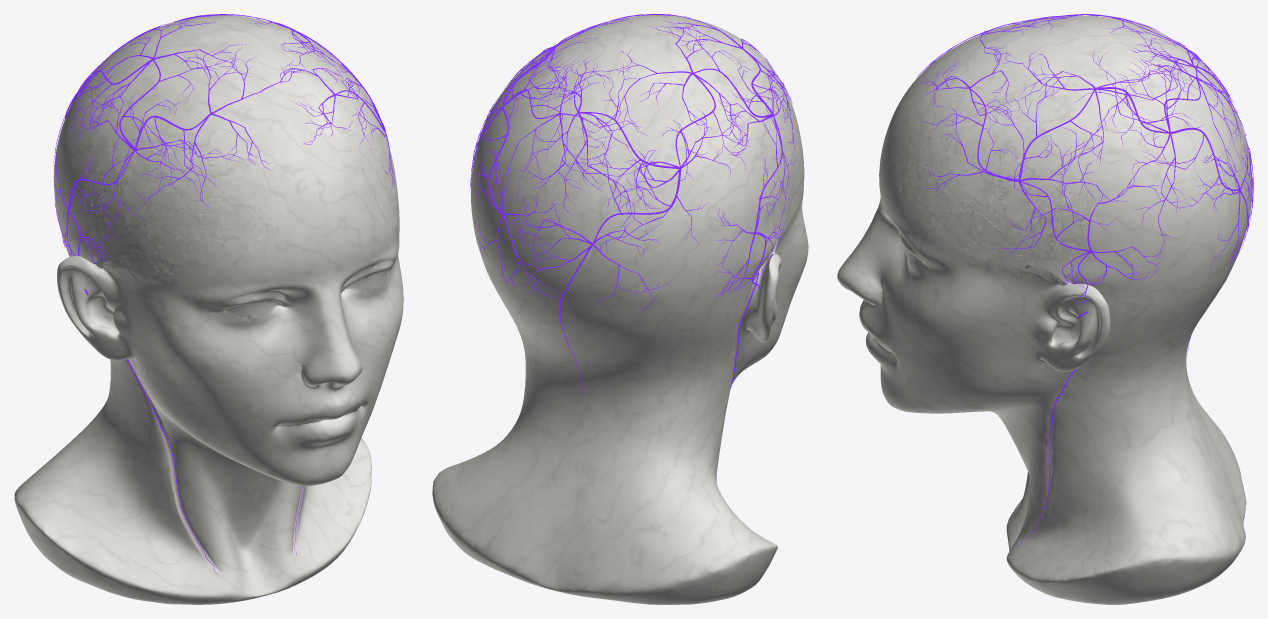
The model's file is cymba-neural-mannequin-organic.glb.
3 renders of one model, left to right at view 1: azimuth 30°, elevation 25°; view 2: azimuth 150°, elevation 25°; view 3: azimuth 270°, elevation 25°, orthographic. The views are drawn at different scales.
Parts seen in each view (by area): view 1: Cymba_Marble_Mannequin, Purple_Surface_Nerve_Fibres; view 2: Cymba_Marble_Mannequin, Purple_Surface_Nerve_Fibres; view 3: Cymba_Marble_Mannequin, Purple_Surface_Nerve_Fibres.
Boxes of the visible parts, x1,y1,x2,y2 form: Cymba_Marble_Mannequin: (14, 15, 403, 604); Purple_Surface_Nerve_Fibres: (53, 14, 394, 573); Cymba_Marble_Mannequin: (432, 15, 808, 604); Purple_Surface_Nerve_Fibres: (469, 14, 796, 397); Cymba_Marble_Mannequin: (837, 15, 1252, 604); Purple_Surface_Nerve_Fibres: (916, 14, 1253, 544).
Size of the model in its own units: 2.74 by 4.27 by 3.06.
Materials: 2 (1 with a texture image).
